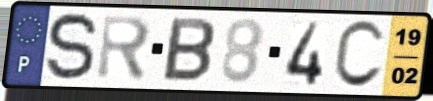4: (282, 19, 326, 88)
8: (219, 16, 268, 88)
B: (159, 15, 218, 85)
C: (330, 18, 388, 92)
R: (94, 13, 155, 84)
S: (44, 10, 100, 83)
